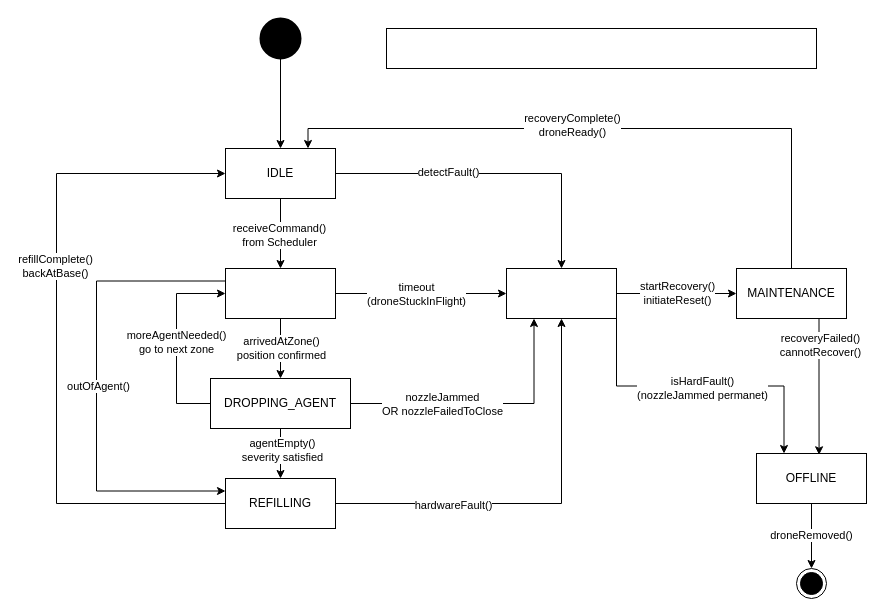
Image size: 884x616. Some labels were removed from this diagram. The shapes that lost their labels are listed below. From the top down, each one's centre as x and y in pixels, then its label:
At (x=601, y=48): "State Machine Diagram: DroneSubsystem".
At (x=280, y=293): "EN_ROUTE".
At (x=561, y=293): "FAULTED".
